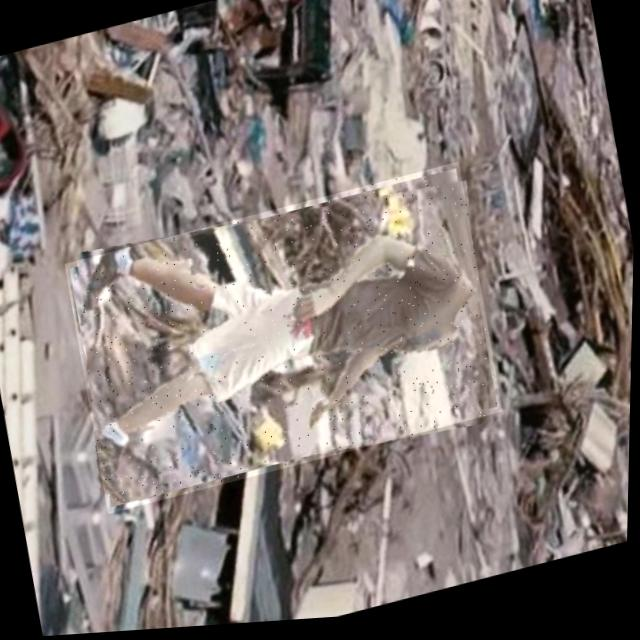Person in Rubble: (60, 166, 508, 519)
